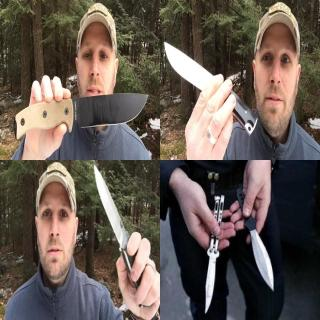knife: (40, 74, 150, 136), (92, 162, 146, 282), (162, 40, 232, 122), (234, 186, 274, 293), (200, 191, 224, 315)
